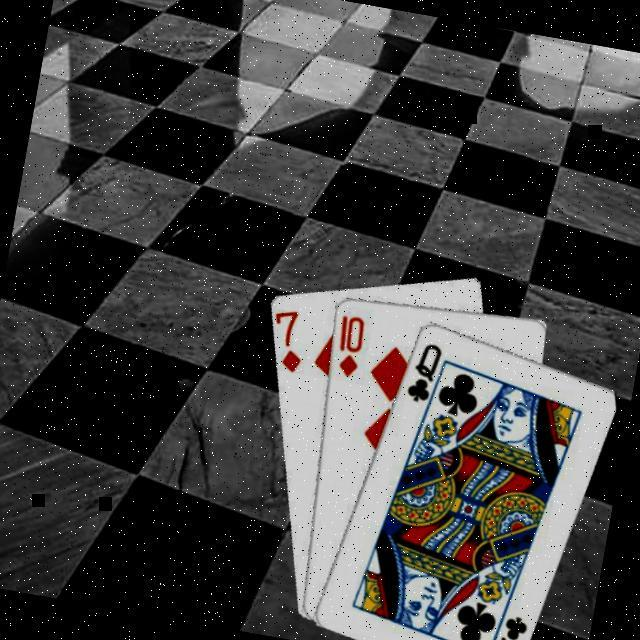10D: (326, 308, 367, 378)
7D: (263, 302, 310, 374)
QC: (399, 335, 444, 406), (484, 607, 529, 640)
